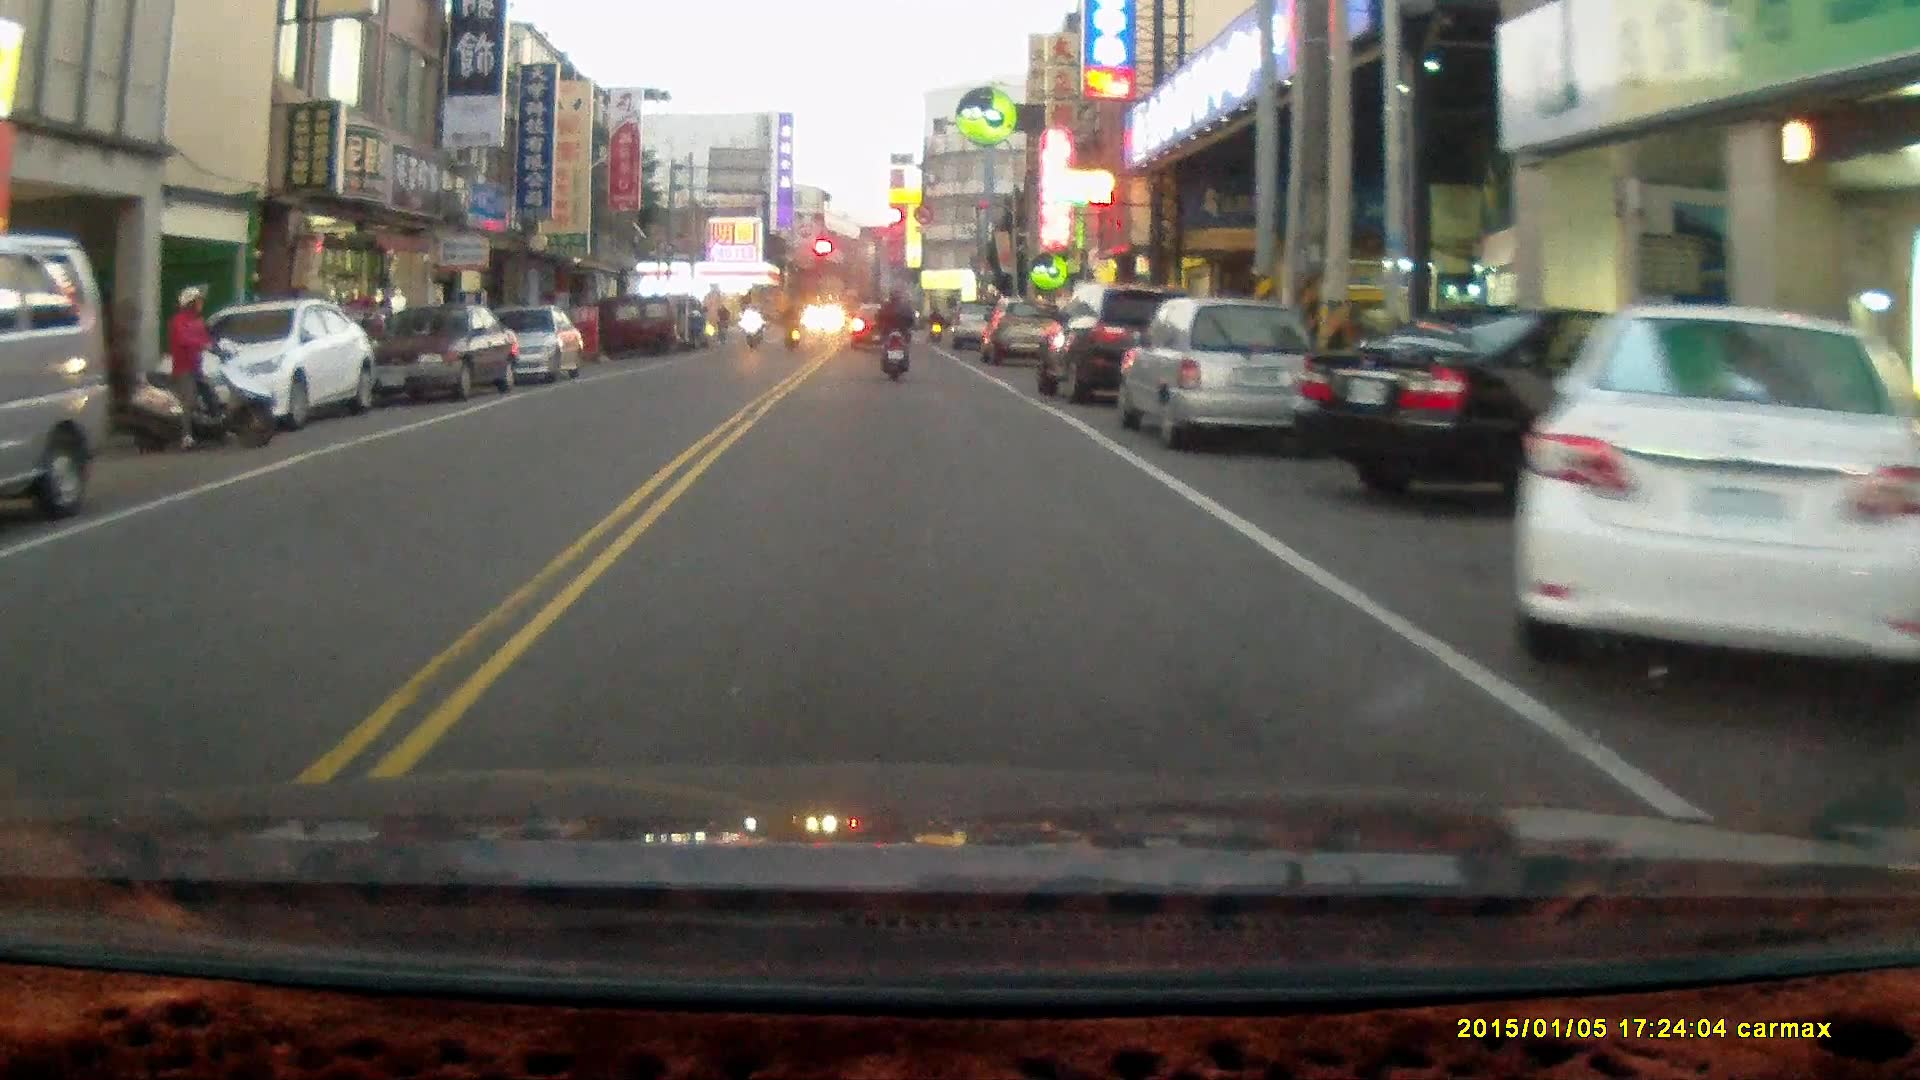rider: (118, 279, 271, 448), (872, 281, 915, 381), (738, 299, 764, 349)
vehicle: (1527, 298, 1908, 673), (1298, 299, 1824, 515), (1, 231, 111, 518), (1122, 292, 1329, 438), (154, 291, 372, 425), (1035, 283, 1206, 404), (355, 299, 516, 398), (461, 297, 585, 381)
